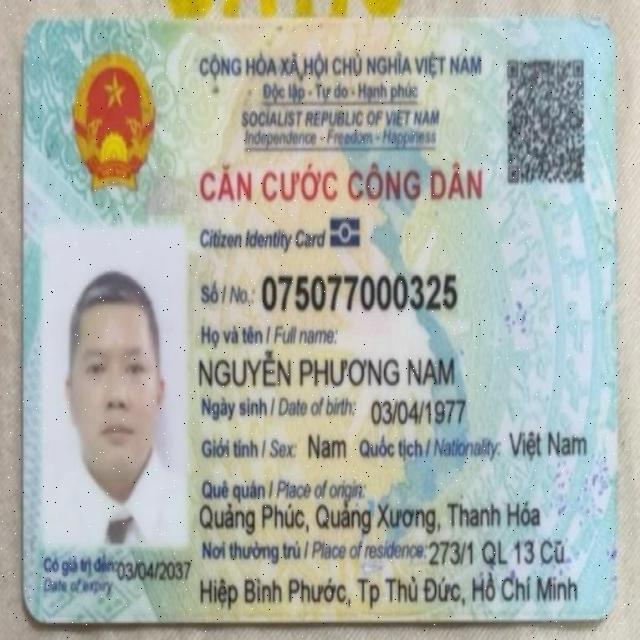current_place: (198, 570, 580, 616), (427, 533, 570, 568)
dob: (367, 396, 469, 427)
expire_date: (116, 553, 192, 588)
gender: (307, 430, 348, 463)
id: (260, 271, 463, 315)
name: (194, 342, 457, 395)
nationality: (505, 424, 591, 462)
origin_place: (196, 500, 545, 536)
